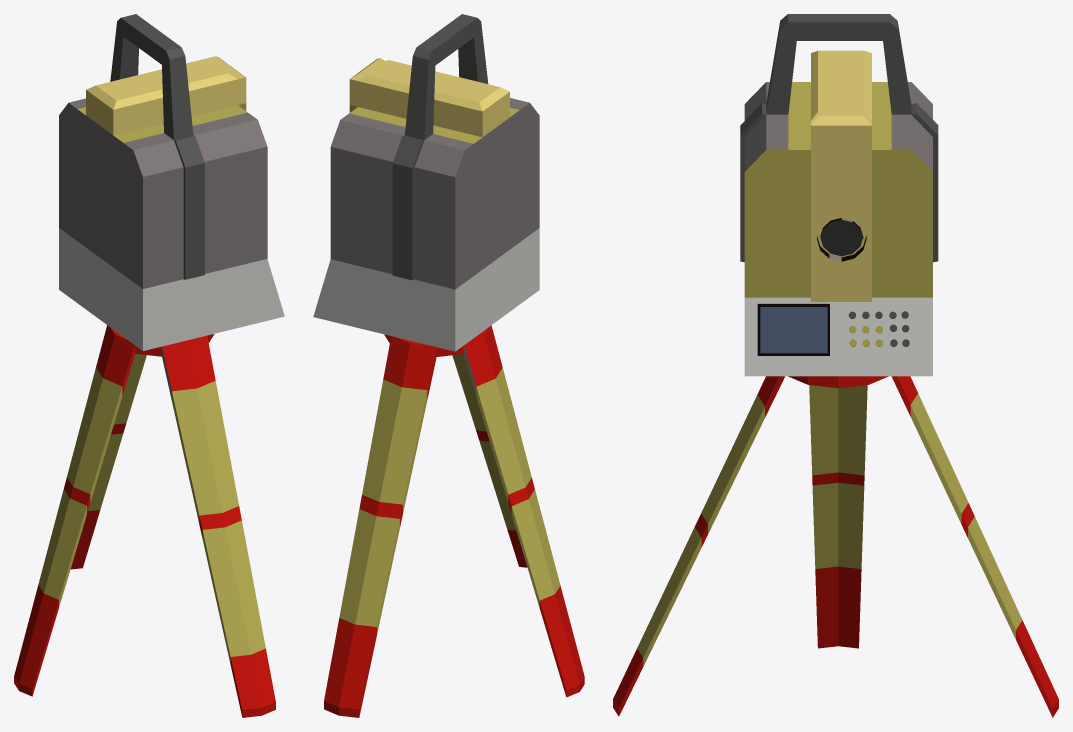
Rendered from laser.fbx.
3 views of the same model, side by side, from view 1: azimuth 30°, elevation 25°; view 2: azimuth 150°, elevation 25°; view 3: azimuth 270°, elevation 25° (orthographic). The views are drawn at different scales.
Parts seen in each view (by area): view 1: Cube; view 2: Cube; view 3: Cube.
Boxes of the visible parts, <box> form: Cube: <box>14,14,284,717</box>; Cube: <box>313,14,584,717</box>; Cube: <box>613,14,1058,717</box>.
Bounding box in the file's own units: 38.28 × 102 × 58.98.
